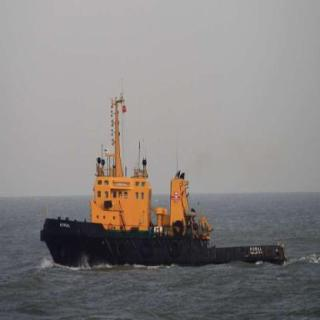Tug Boat: (36, 99, 285, 266)
